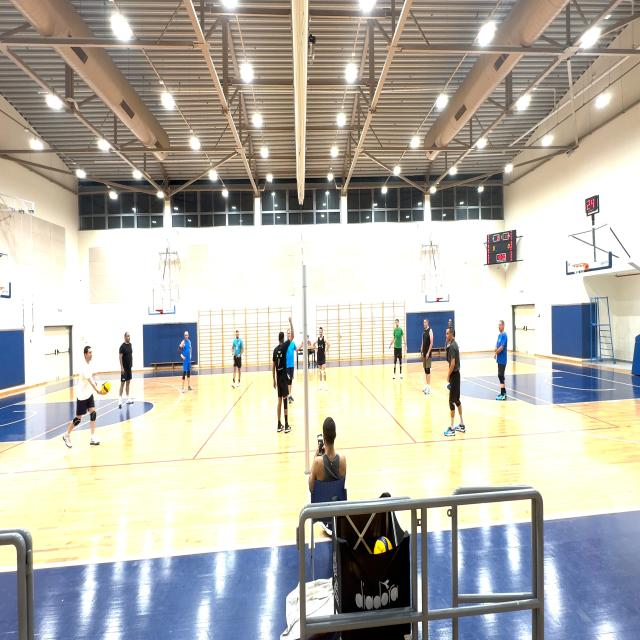volleyball: (373, 536, 393, 555), (102, 382, 110, 394)
